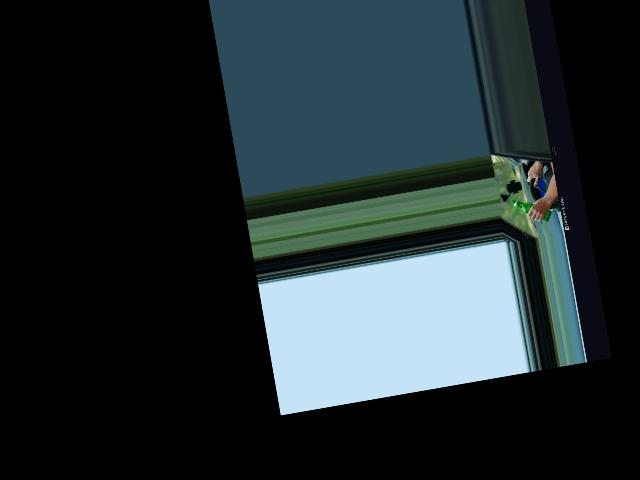beer: (511, 193, 553, 226)
